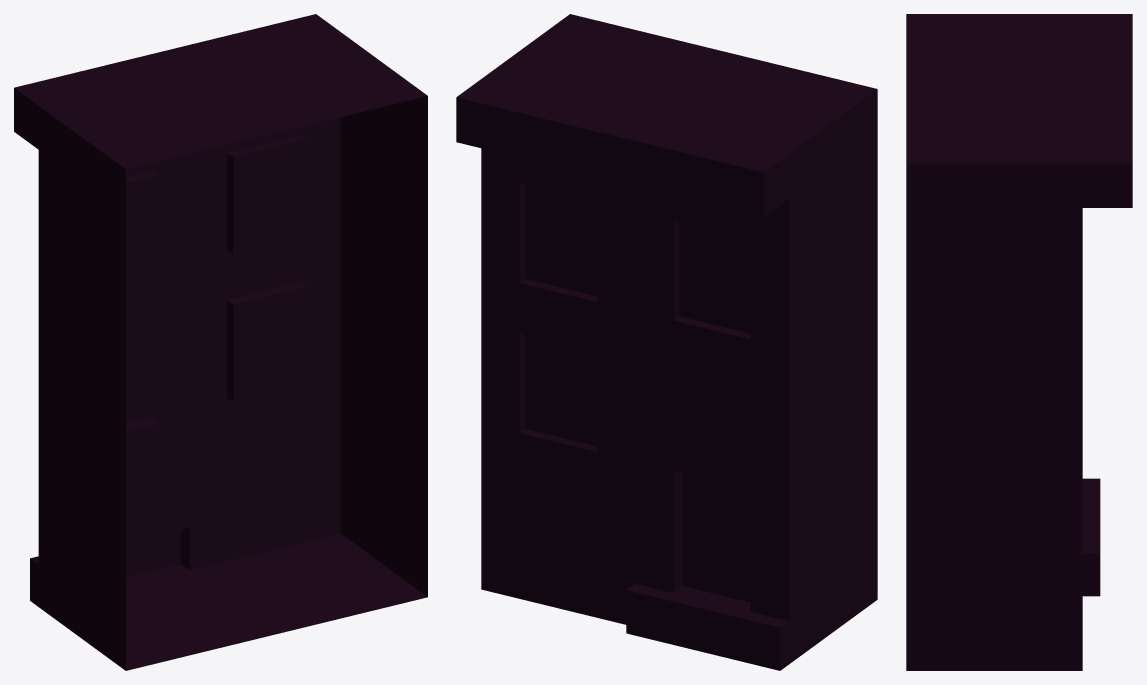
Rendered from facade.obj.
3 views of the same model, side by side, from view 1: azimuth 30°, elevation 25°; view 2: azimuth 150°, elevation 25°; view 3: azimuth 270°, elevation 25° (orthographic).
Parts seen in each view (by area): view 1: Cube; view 2: Cube; view 3: Cube.
Part boxes in pixels (x1,y1,x2,y2): Cube: (14,14,427,670); Cube: (456,14,877,670); Cube: (906,14,1132,670).
Size of the model in its own units: 6.38 by 10.12 by 4.09.
